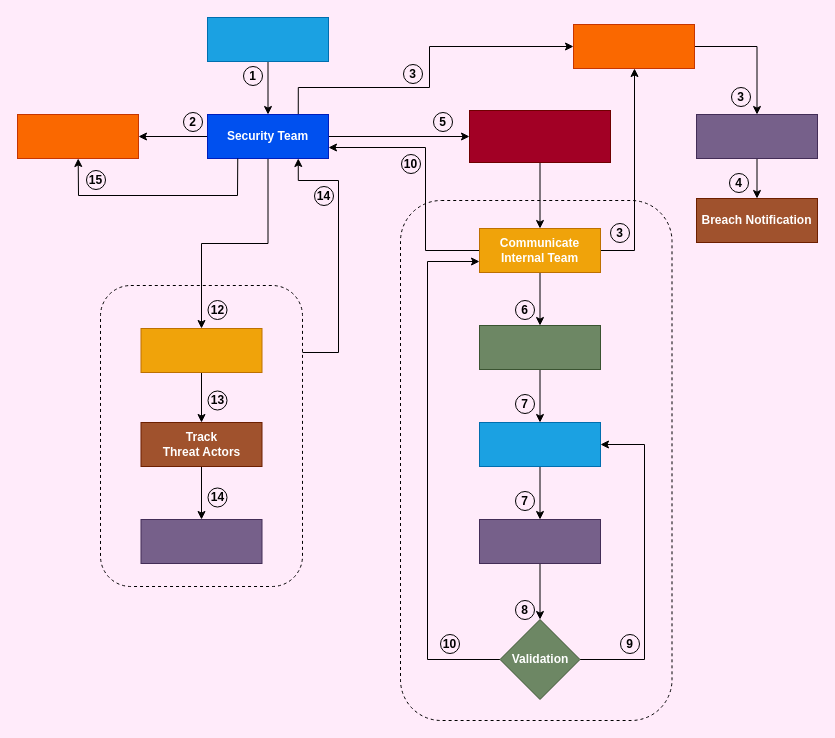
The diagram is 835 pixels wide and 738 high, and some of its shapes have lost their labels. Here are the shapes that lost their labels. From the top down, the centre of each, then its label:
At point 267,39: "Bug Bounty Portal".
At point 633,46: "Data Breach/Leak".
At point 77,136: "Ticketing System (Incident Tracking)".
At point 539,136: "Application/SysAdmin IT/DevOps/Dev/Cloud Teams".
At point 757,136: "Legal/PR Teams".
At point 201,350: "Collect/Analyze Artifacts / Logs".
At point 539,347: "Asset/Host Identification".
At point 539,444: "App/Asset Owner".
At point 201,541: "Final Report".
At point 539,541: "Bug Fix/Patch".
